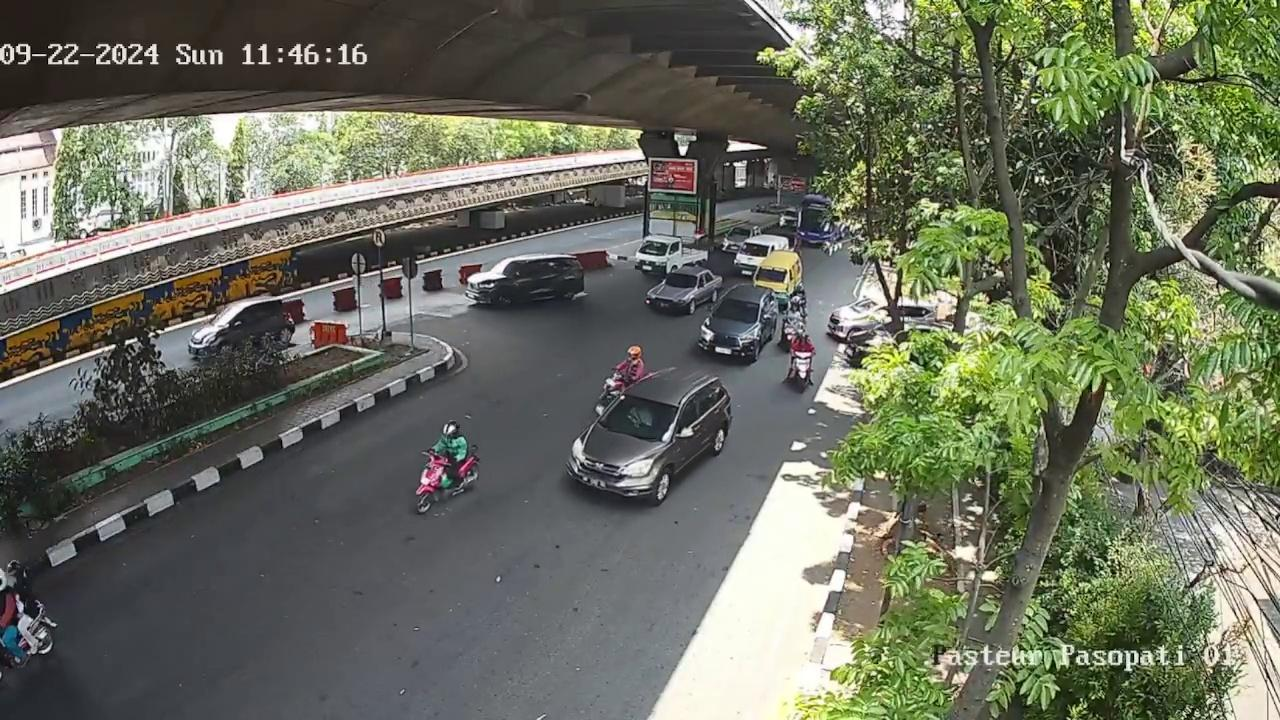pakai: (625, 401, 652, 429)
windshield: (601, 393, 678, 439), (714, 296, 760, 322), (754, 263, 789, 284), (665, 271, 697, 289), (641, 241, 671, 255)
